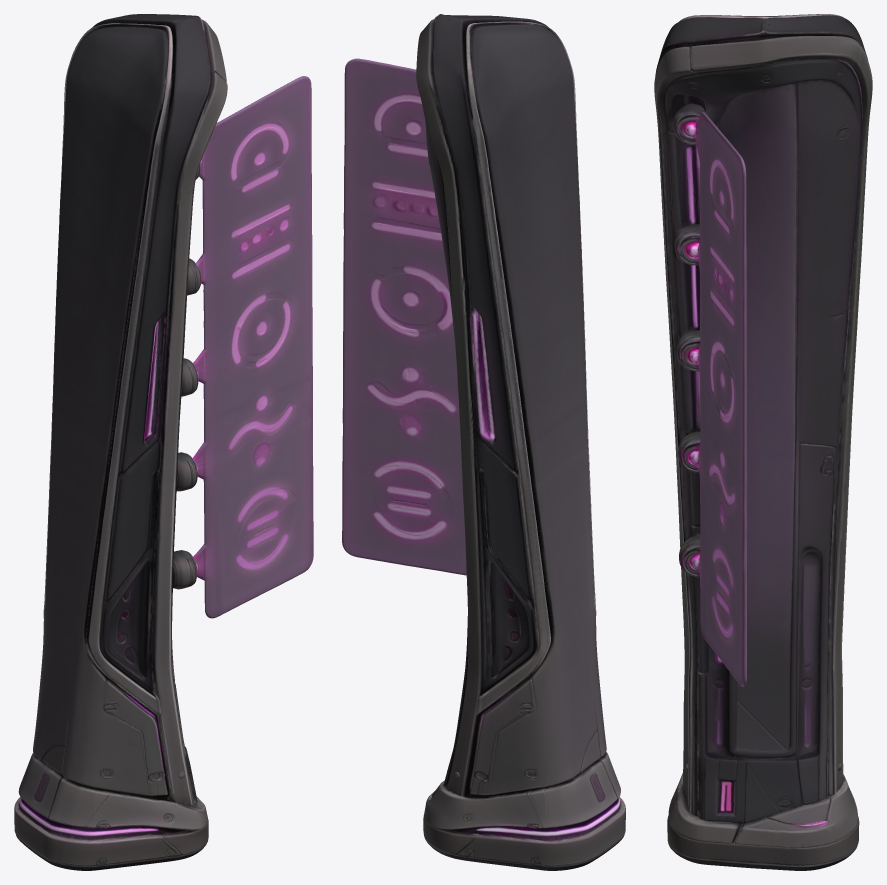
Rendered from sign-b.glb.
3 views of the same model, side by side, from view 1: azimuth 30°, elevation 25°; view 2: azimuth 150°, elevation 25°; view 3: azimuth 270°, elevation 25° (orthographic). The views are drawn at different scales.
Visible parts, largest first — view 1: tripo_node_fceedc53-7b15-4cd8-bac8-e131fb7b78e7; view 2: tripo_node_fceedc53-7b15-4cd8-bac8-e131fb7b78e7; view 3: tripo_node_fceedc53-7b15-4cd8-bac8-e131fb7b78e7.
Boxes of the visible parts, left/top/right/bottom form: tripo_node_fceedc53-7b15-4cd8-bac8-e131fb7b78e7: left=14, top=14, right=313, bottom=870; tripo_node_fceedc53-7b15-4cd8-bac8-e131fb7b78e7: left=342, top=14, right=625, bottom=870; tripo_node_fceedc53-7b15-4cd8-bac8-e131fb7b78e7: left=654, top=14, right=872, bottom=870.
Size of the model in its own units: 0.3517 by 0.9791 by 0.2278.
Materials: 1 (1 with a texture image).
